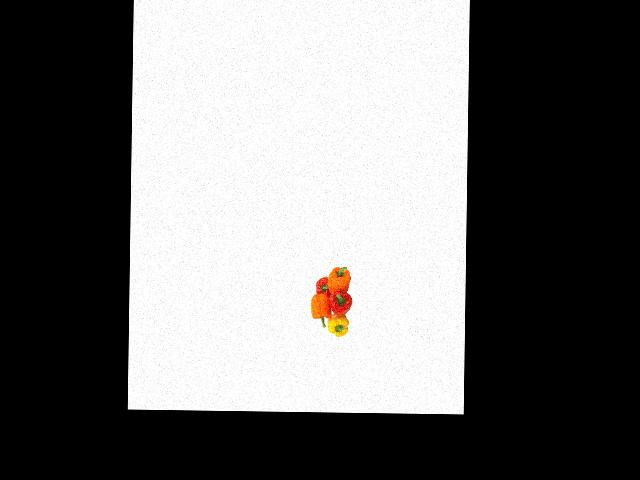bell_pepper: (325, 260, 353, 295)
